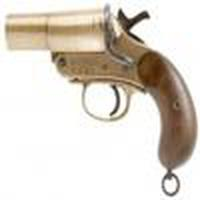gun: (5, 4, 196, 197)
